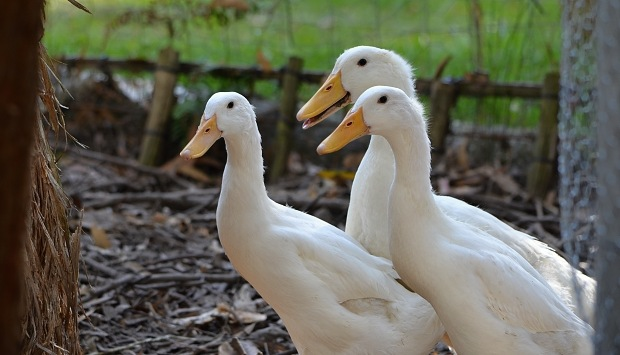Mencari Makan di Lumpur: (296, 70, 351, 130), (172, 114, 226, 170), (315, 109, 371, 162)
